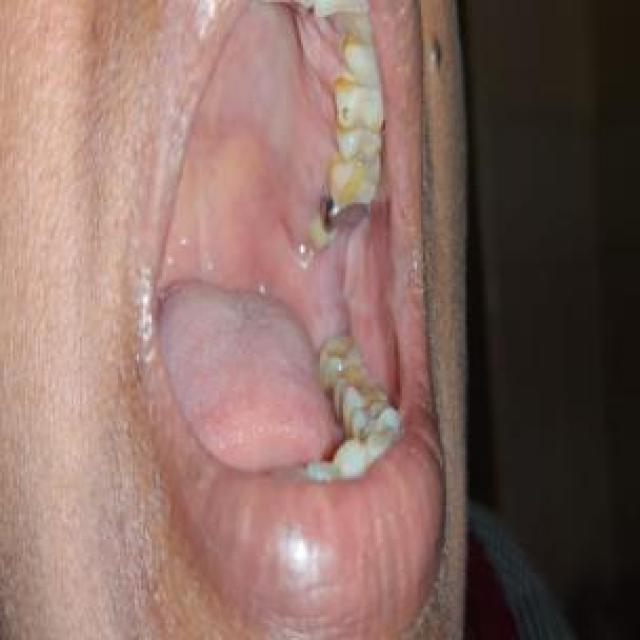processing_area: (152, 5, 396, 478)
